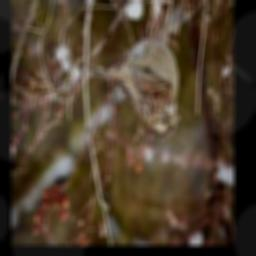Sparrow: (88, 24, 183, 139)
